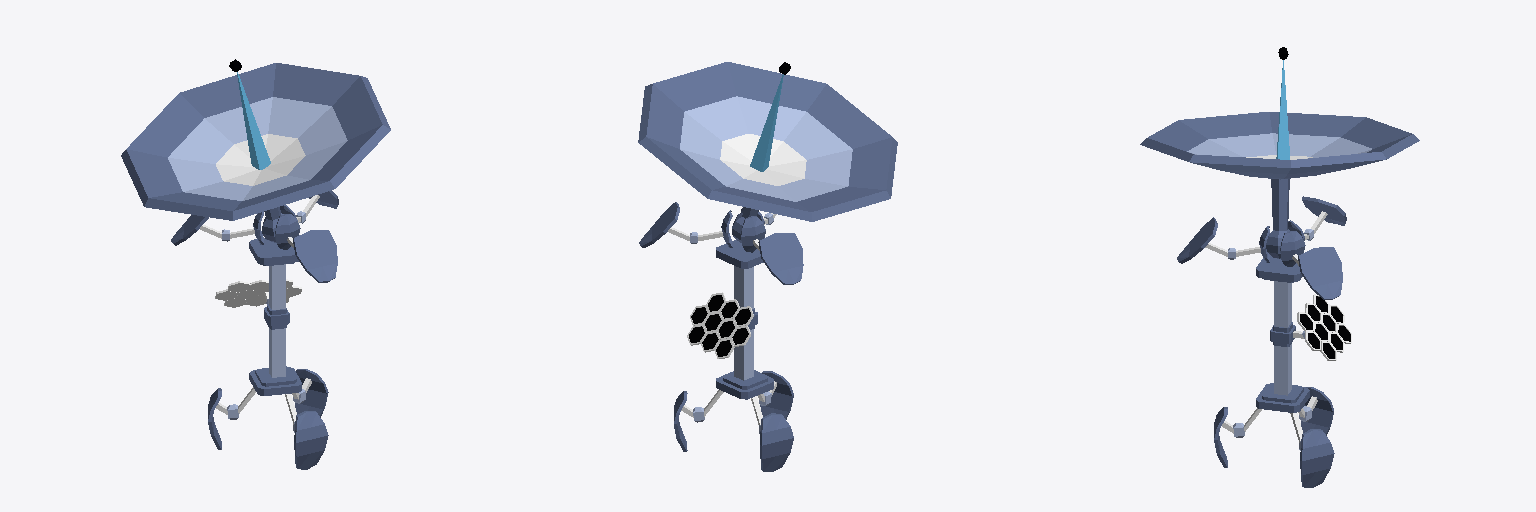
The model's file is radio_tower.obj.
3 views of the same model, side by side, from view 1: azimuth 30°, elevation 25°; view 2: azimuth 150°, elevation 25°; view 3: azimuth 270°, elevation 25° (orthographic).
Parts seen in each view (by area): view 1: dish, legs, reflectors, stalk, solarpanels; view 2: dish, legs, reflectors, solarpanels, stalk; view 3: dish, reflectors, legs, solarpanels, stalk.
Boxes of the visible parts, box(x1,y1,x2,y2) form: dish: box(121, 59, 390, 242); legs: box(208, 366, 328, 469); reflectors: box(171, 190, 338, 282); stalk: box(249, 238, 298, 377); solarpanels: box(215, 279, 301, 329); dish: box(638, 62, 897, 242); legs: box(674, 370, 793, 471); reflectors: box(639, 202, 803, 284); solarpanels: box(687, 292, 757, 358); stalk: box(716, 240, 763, 380); dish: box(1140, 47, 1419, 258); reflectors: box(1177, 196, 1346, 299); legs: box(1214, 383, 1334, 487); solarpanels: box(1270, 294, 1351, 360); stalk: box(1256, 254, 1302, 395).
Bounding box in the file's own units: 77.21 × 125 × 79.74.